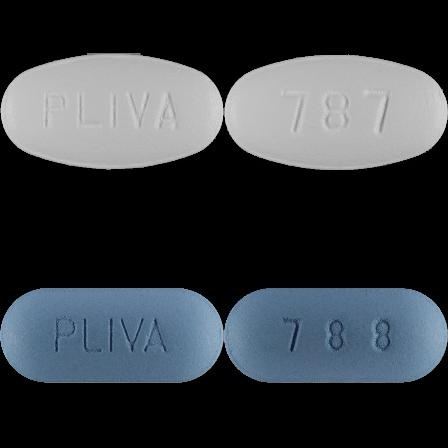50111-787: (0, 0, 224, 224)
